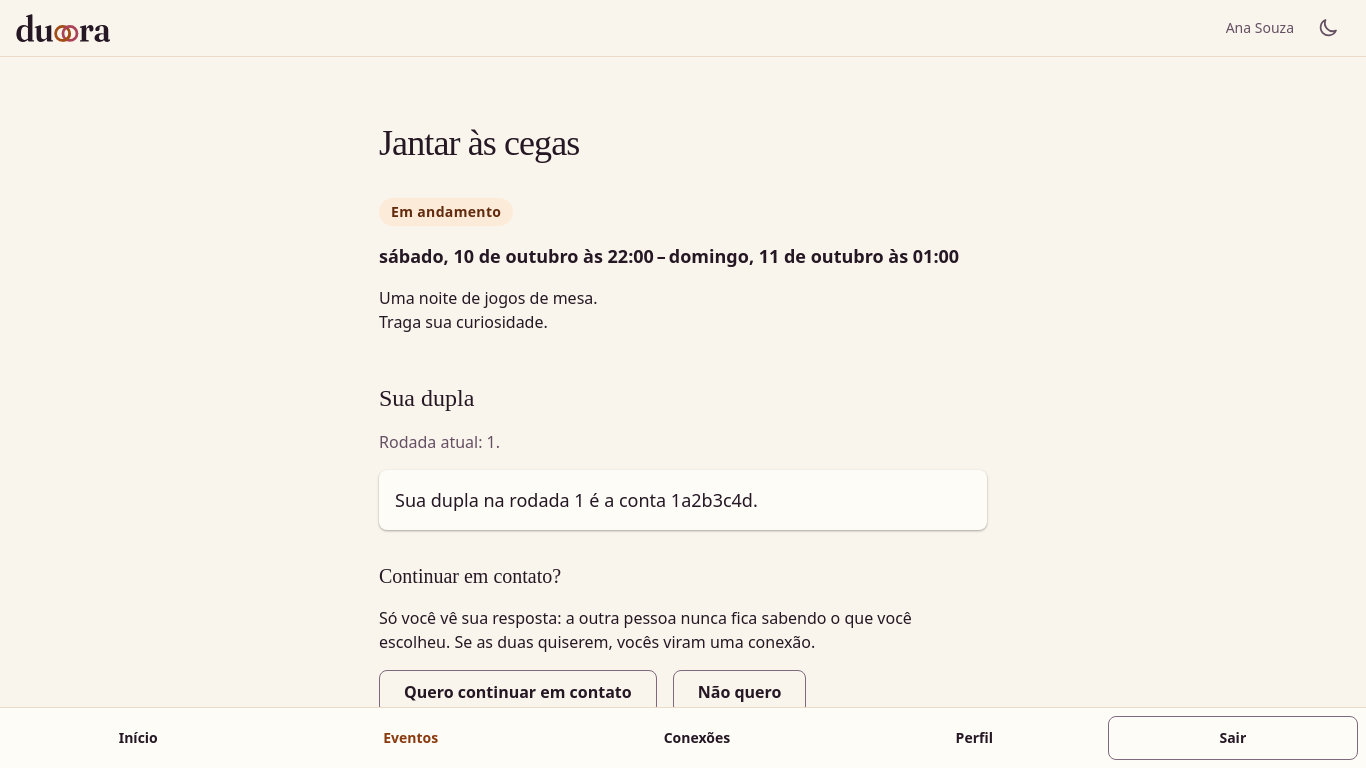
private decision after a round › asks to confirm before sending, saying the decision is final and private, with the focus on confirm
Expected: the text "Sua dupla na rodada 1 é a conta 1a2b3c4d." is shown, x1=379 y1=470 x2=987 y2=530
Click the button "Quero continuar em contato". click: [518, 692]
box: x1=379 y1=670 x2=657 y2=714
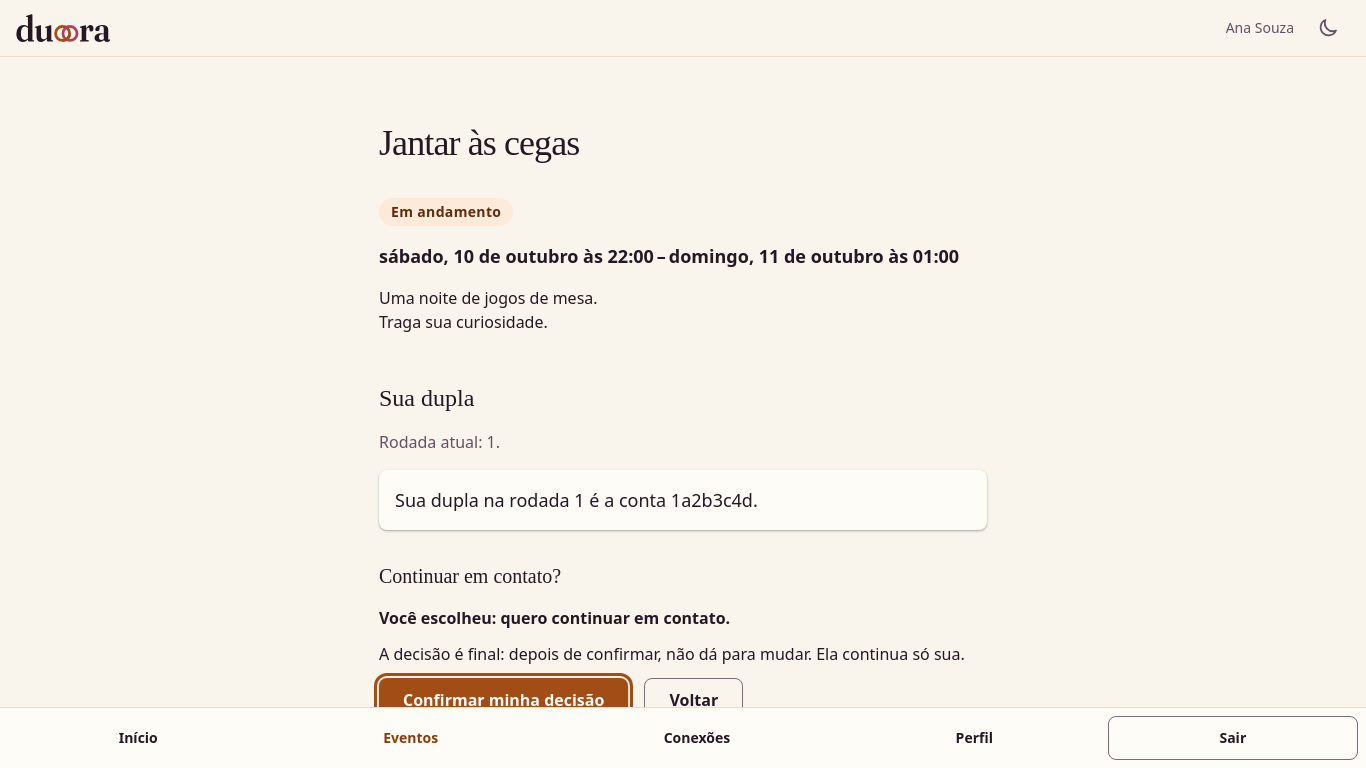
Result: the text "Você escolheu: quero continuar em contato." is shown at x1=379 y1=606 x2=730 y2=630
Result: the text "A decisão é final: depois de confirmar, não dá para mudar. Ela continua só sua." is shown at x1=379 y1=642 x2=965 y2=666
